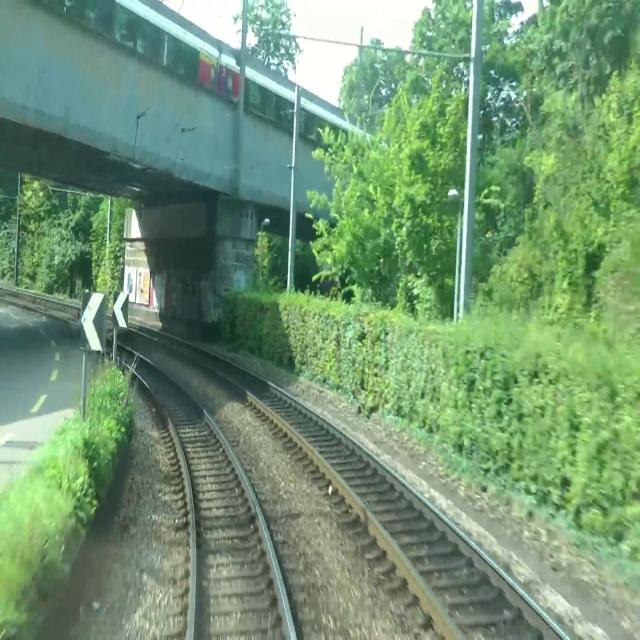rail-track: (148, 332, 561, 639), (116, 344, 292, 639), (22, 308, 80, 338), (107, 339, 113, 354)
